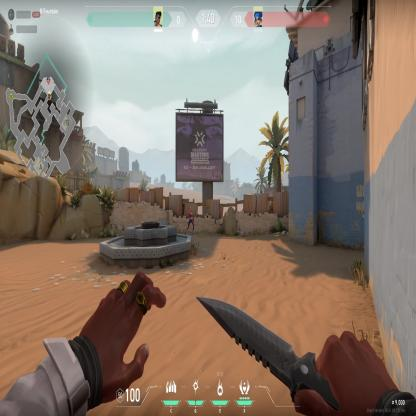enemy: (184, 204, 196, 236)
